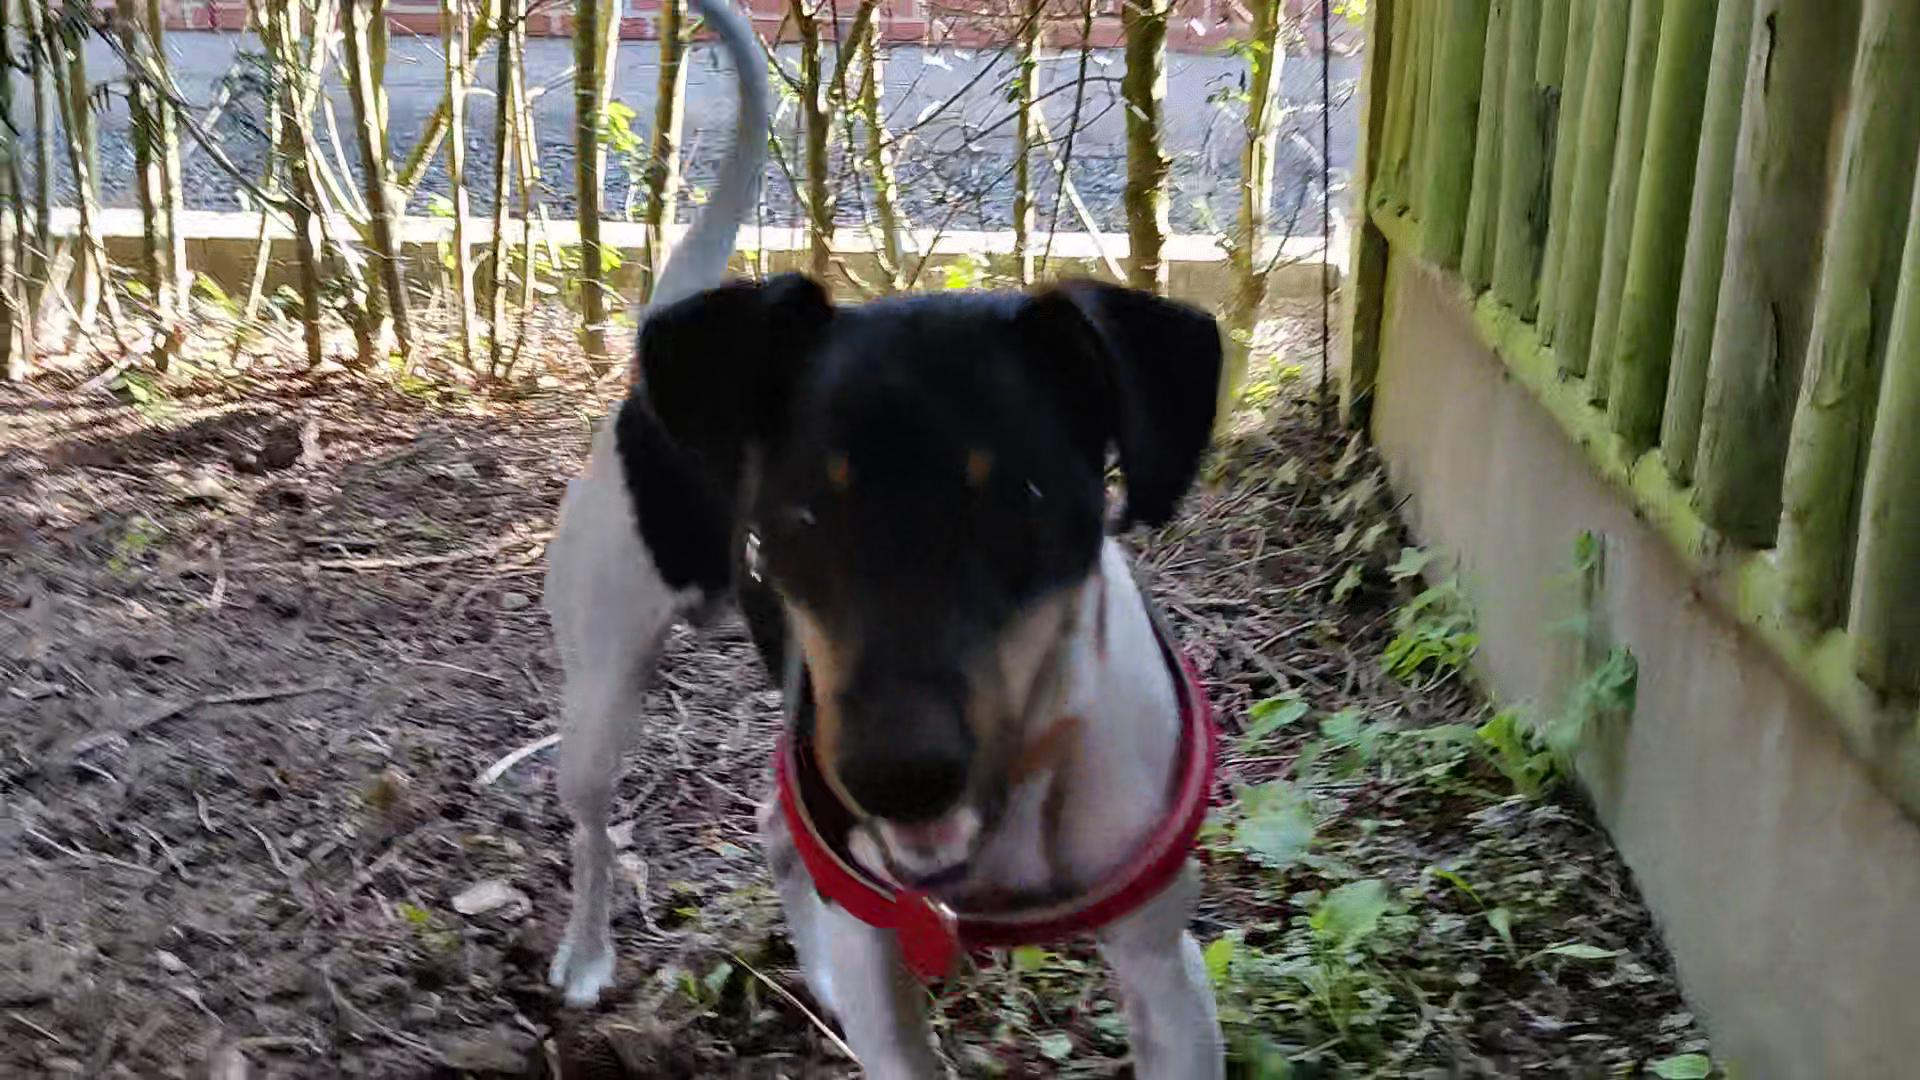Dog: (504, 0, 1267, 1079)
